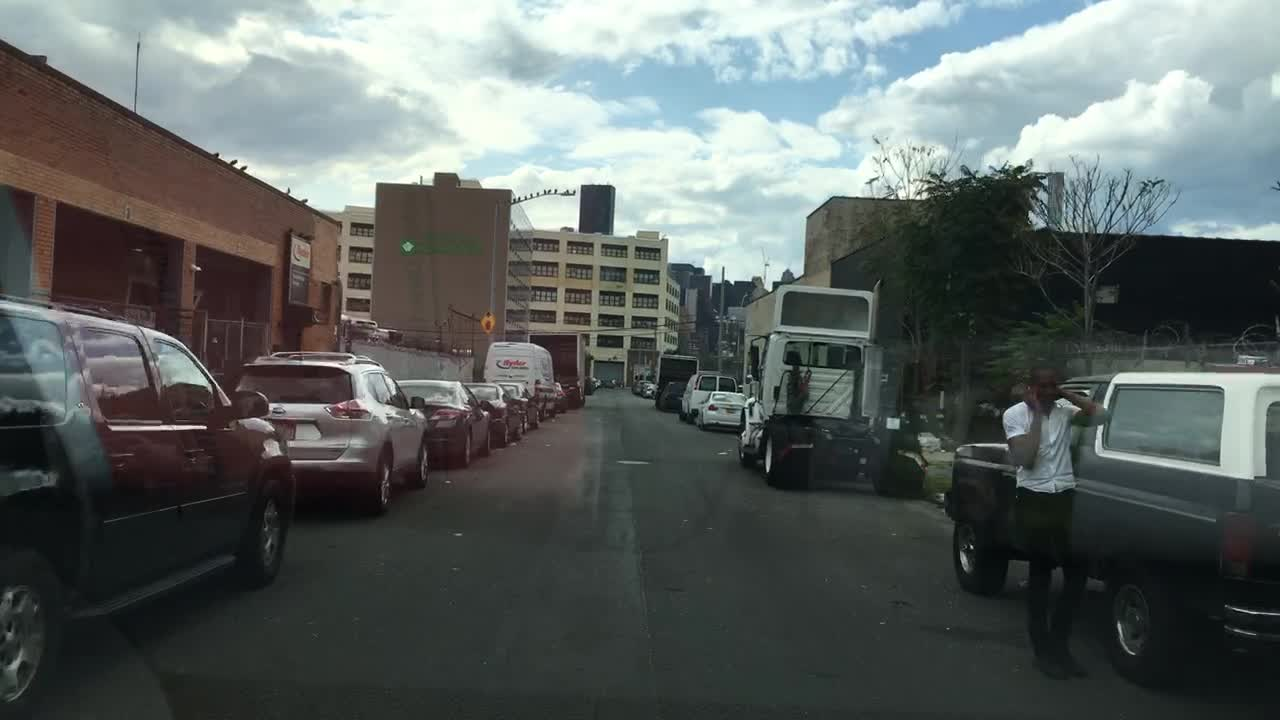bus: (482, 343, 557, 421)
car: (1, 292, 300, 712), (944, 364, 1278, 683), (233, 348, 433, 516), (395, 378, 492, 466), (462, 380, 526, 446), (678, 369, 739, 426), (694, 390, 749, 436), (495, 379, 542, 429), (554, 382, 571, 411), (633, 377, 650, 396), (641, 380, 657, 398), (587, 376, 602, 393), (602, 376, 615, 389), (616, 378, 628, 390), (593, 376, 607, 386)
person: (999, 348, 1116, 684)
traffic sign: (479, 311, 494, 331)
truck: (739, 277, 927, 492), (528, 331, 590, 408), (651, 352, 700, 407)
